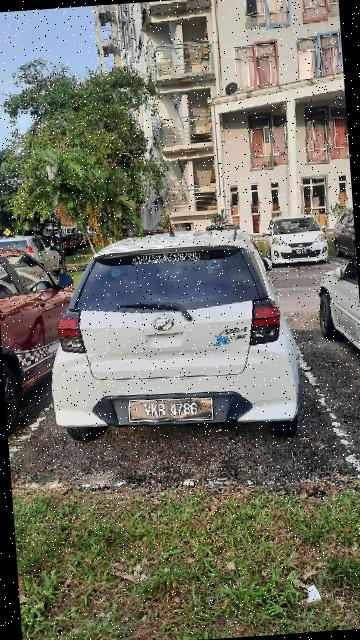License_Plate: (127, 386, 220, 429)
car: (41, 219, 308, 456)
